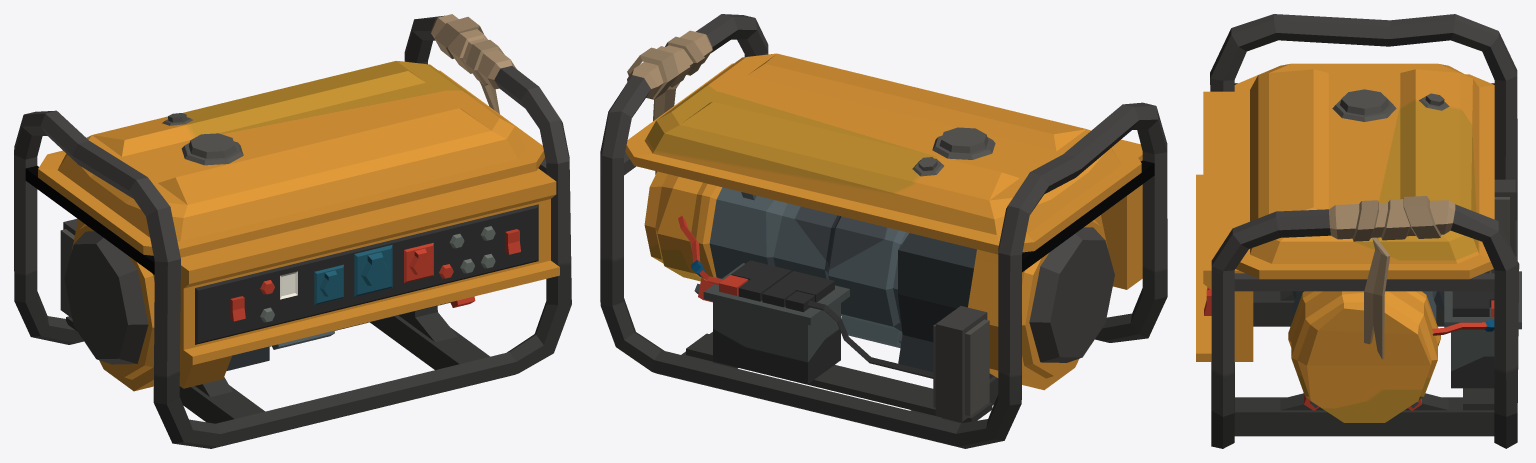
The model's file is SM_Diesel_Generator.gltf.
3 views of the same model, side by side, from view 1: azimuth 30°, elevation 25°; view 2: azimuth 150°, elevation 25°; view 3: azimuth 270°, elevation 25° (orthographic). The views are drawn at different scales.
Parts seen in each view (by area): view 1: SM_Diesel_Generator; view 2: SM_Diesel_Generator; view 3: SM_Diesel_Generator.
Part boxes in pixels (box(x1,y1,x2,y2)): SM_Diesel_Generator: box(14, 14, 571, 448); SM_Diesel_Generator: box(600, 14, 1167, 448); SM_Diesel_Generator: box(1196, 14, 1521, 448).
Bounding box in the file's own units: 0.8042 × 0.4868 × 0.5336.
Materials: 1 (1 with a texture image).
